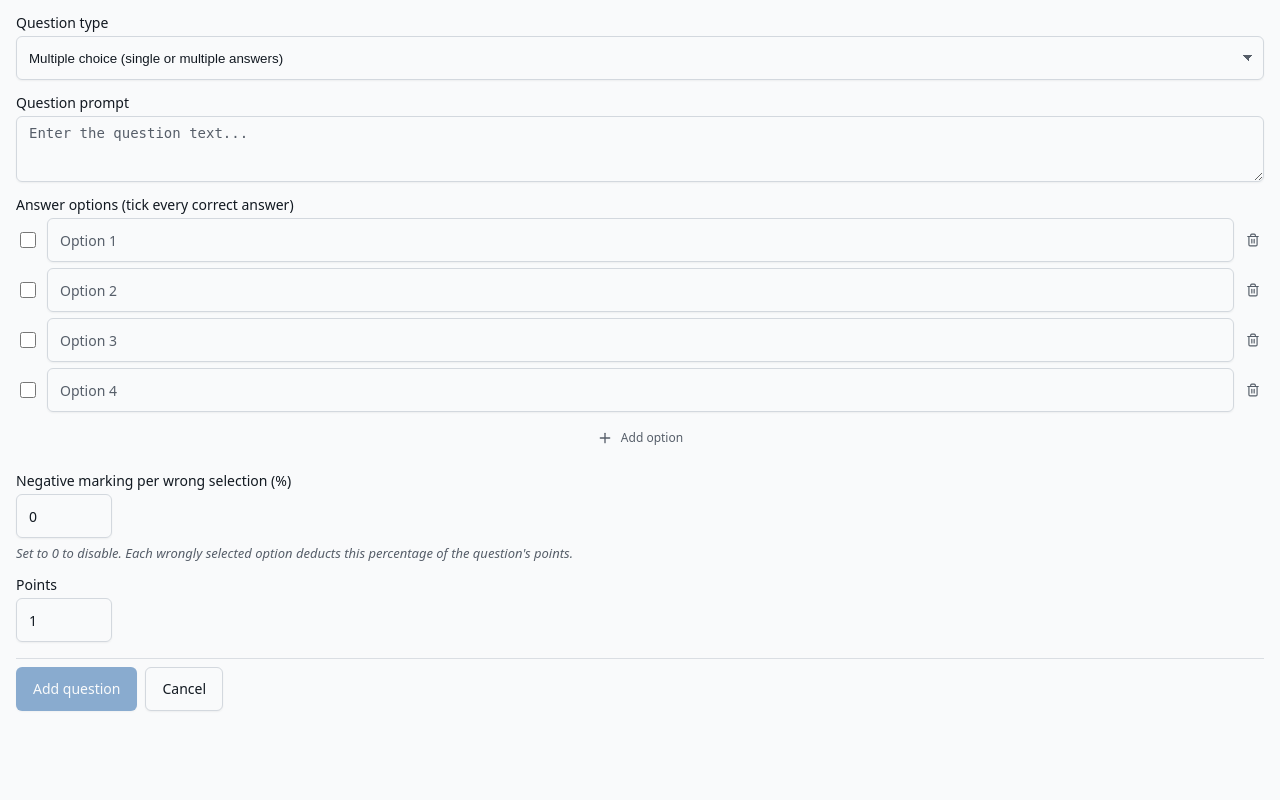
Test: QuestionForm — multiple choice › needs a prompt, two filled options and a correct answer before saving
In the text box labelled "Question prompt": [640, 149] box [16,116,1264,182], type "Which are prime?"
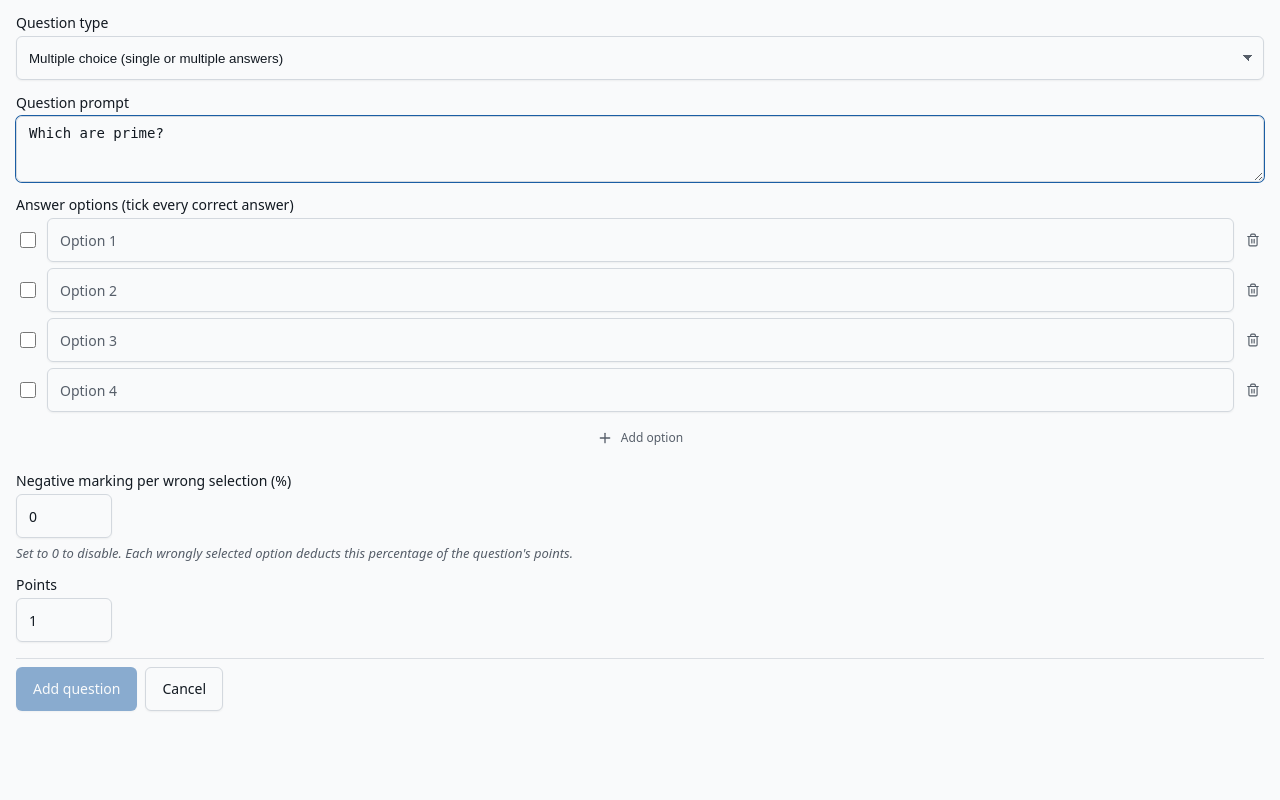
Expected: the button "Add question" is disabled, [16,667,138,711]
In the field with placeholder "Option 1": [640, 240] box [47,218,1234,262], type "2"
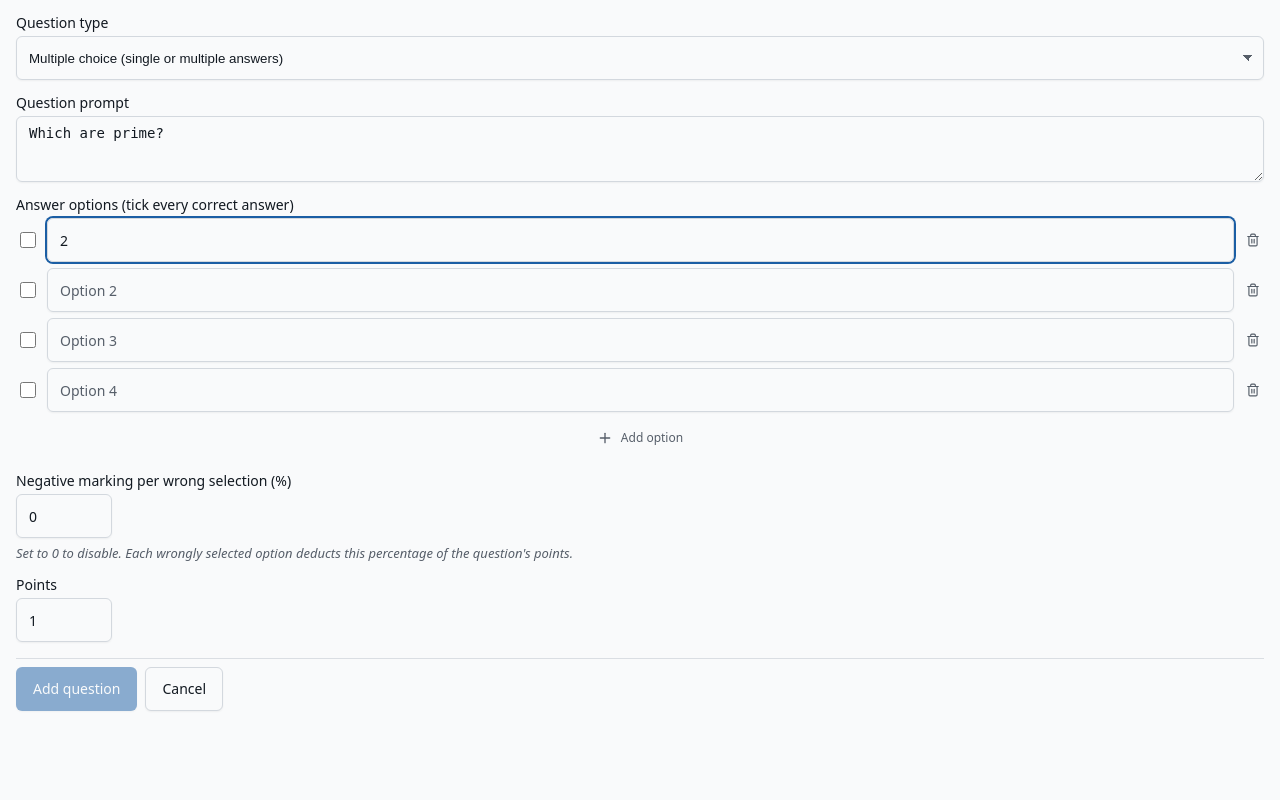
In the field with placeholder "Option 2": [640, 290] box [47,268,1234,312], type "4"
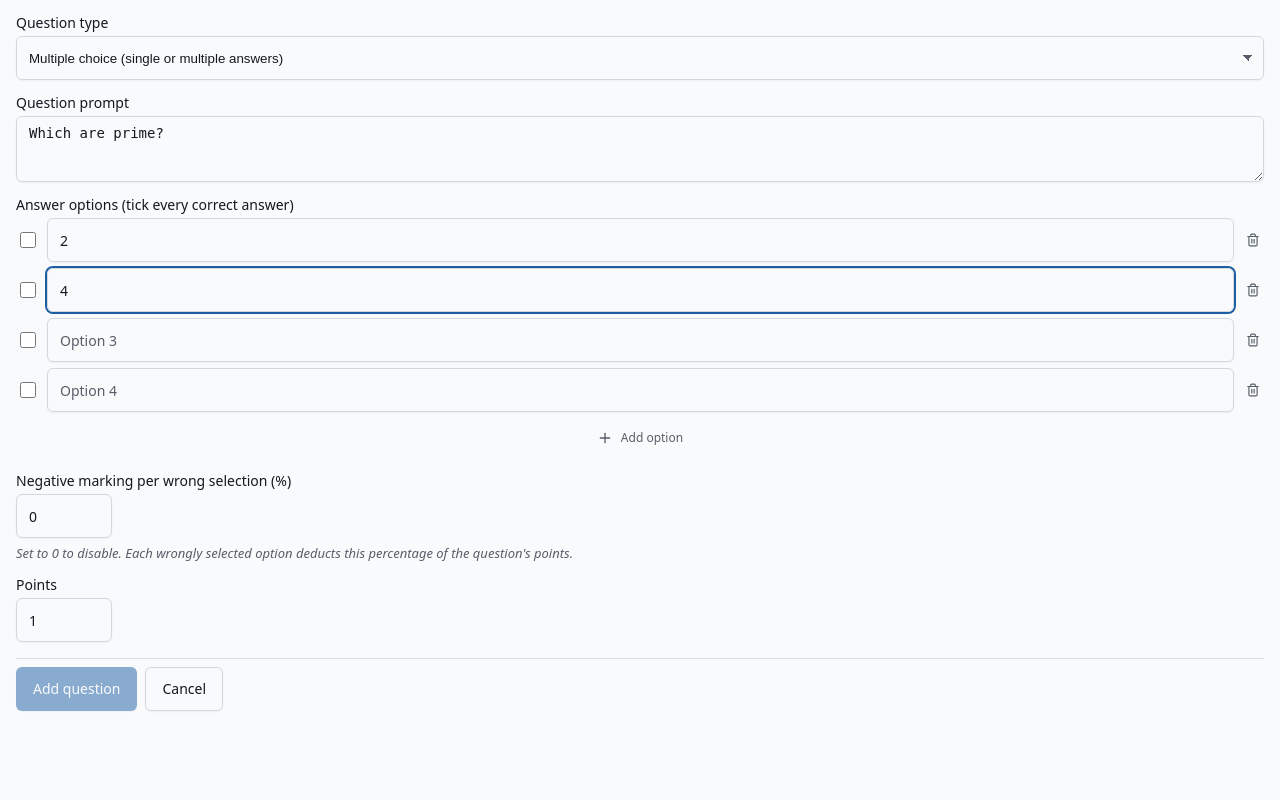
Expected: the button "Add question" is disabled, [16,667,138,711]
Click the 1st checkbox named "Mark as correct": [28, 240] box [20,232,36,248]
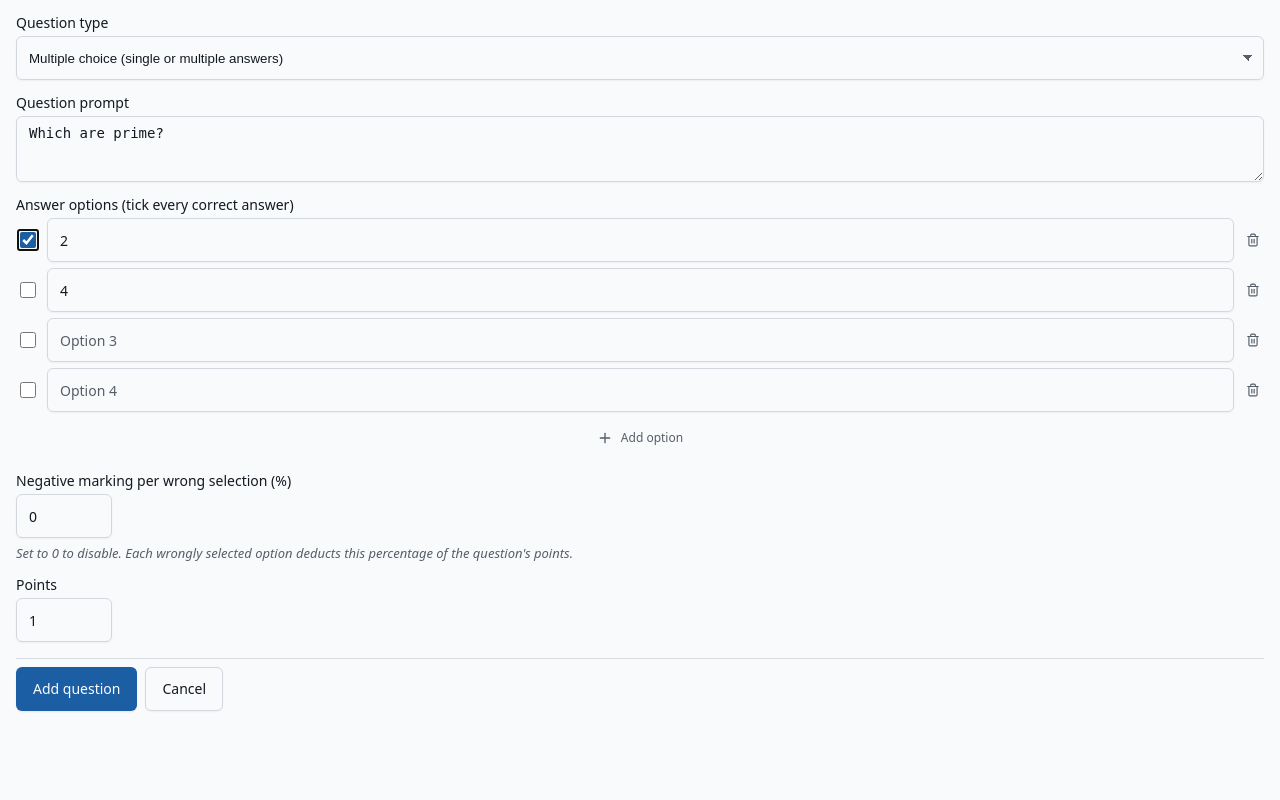
Expected: the button "Add question" is enabled, [16,667,138,711]
